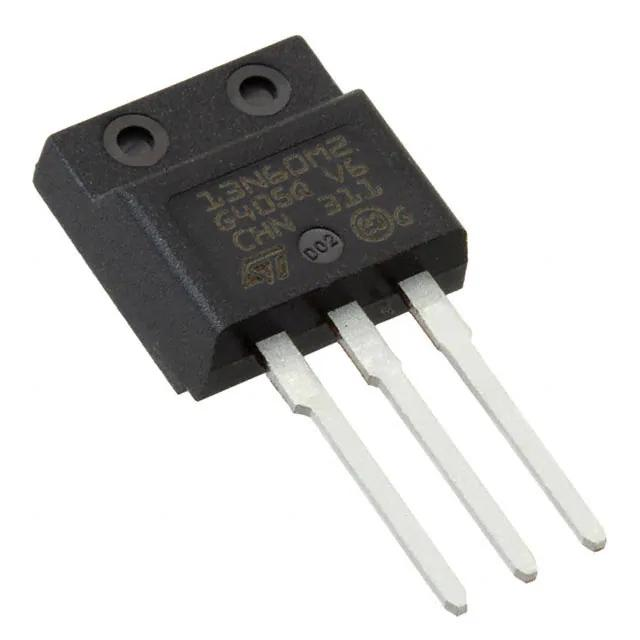Transistor: (35, 36, 593, 615)
